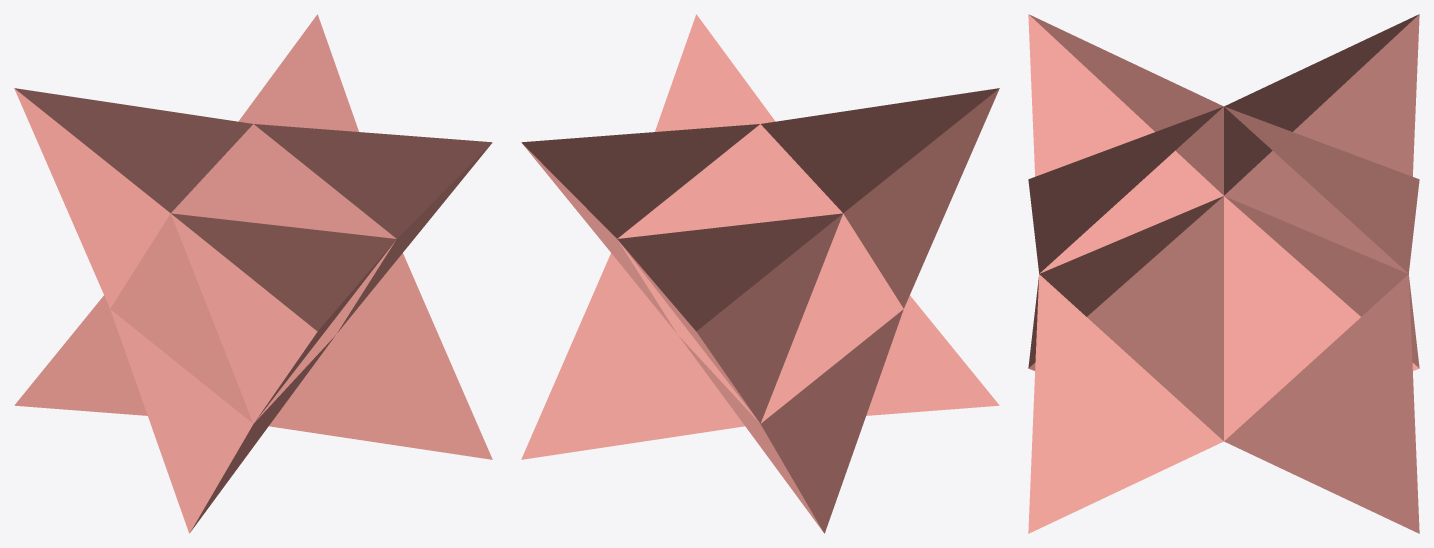
File: hazard.glb
The picture shows the model from 3 angles, left to right: view 1: azimuth 30°, elevation 25°; view 2: azimuth 150°, elevation 25°; view 3: azimuth 270°, elevation 25°; orthographic projection. The views are drawn at different scales.
Visible parts, largest first — view 1: hazard; view 2: hazard; view 3: hazard.
Boxes of the visible parts, <box> form: hazard: <box>14,14,492,533</box>; hazard: <box>521,14,999,533</box>; hazard: <box>1028,14,1419,533</box>.
Bounding box in the file's own units: 0.6351 × 0.6351 × 0.6351.
